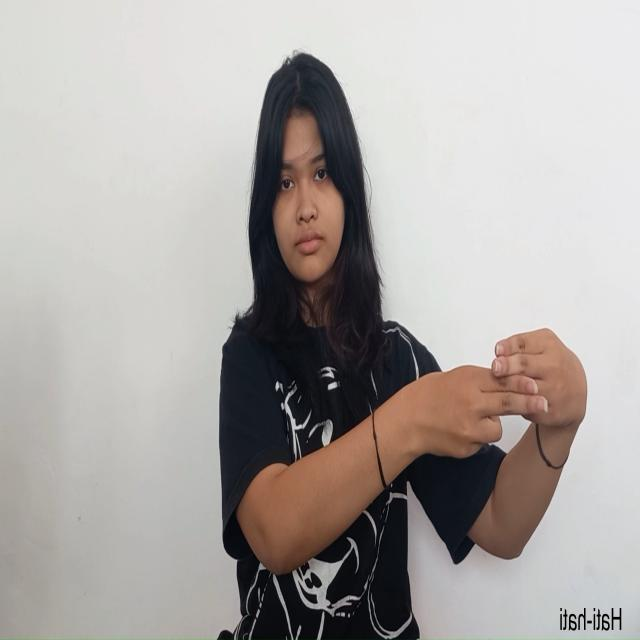Hati-hati -BISINDO-: (400, 328, 588, 460)
